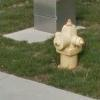Hydrant: (43, 14, 89, 84)
